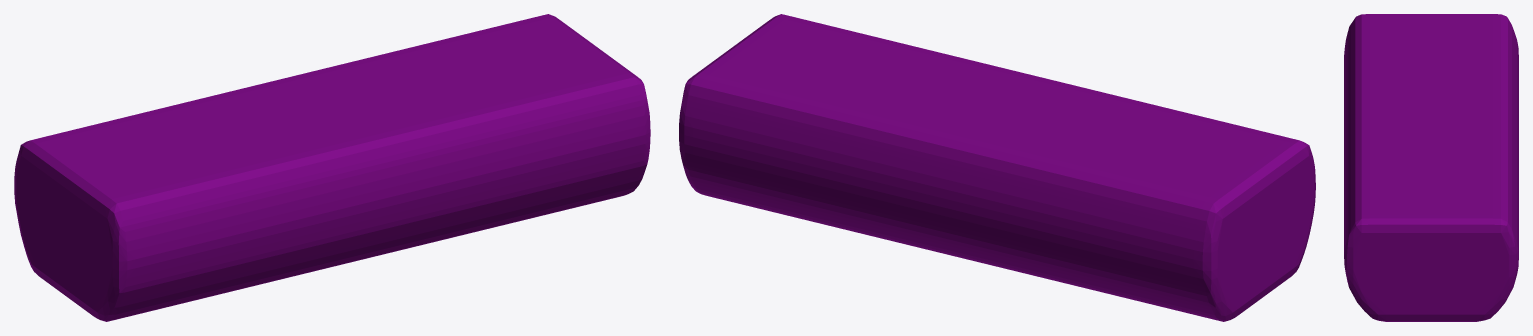
The model's file is left-tarsus-0_part_11.obj.
3 views of the same model, side by side, from view 1: azimuth 30°, elevation 25°; view 2: azimuth 150°, elevation 25°; view 3: azimuth 270°, elevation 25° (orthographic). The views are drawn at different scales.
Bounding box in the file's own units: 0.1145 × 0.0261 × 0.04.
